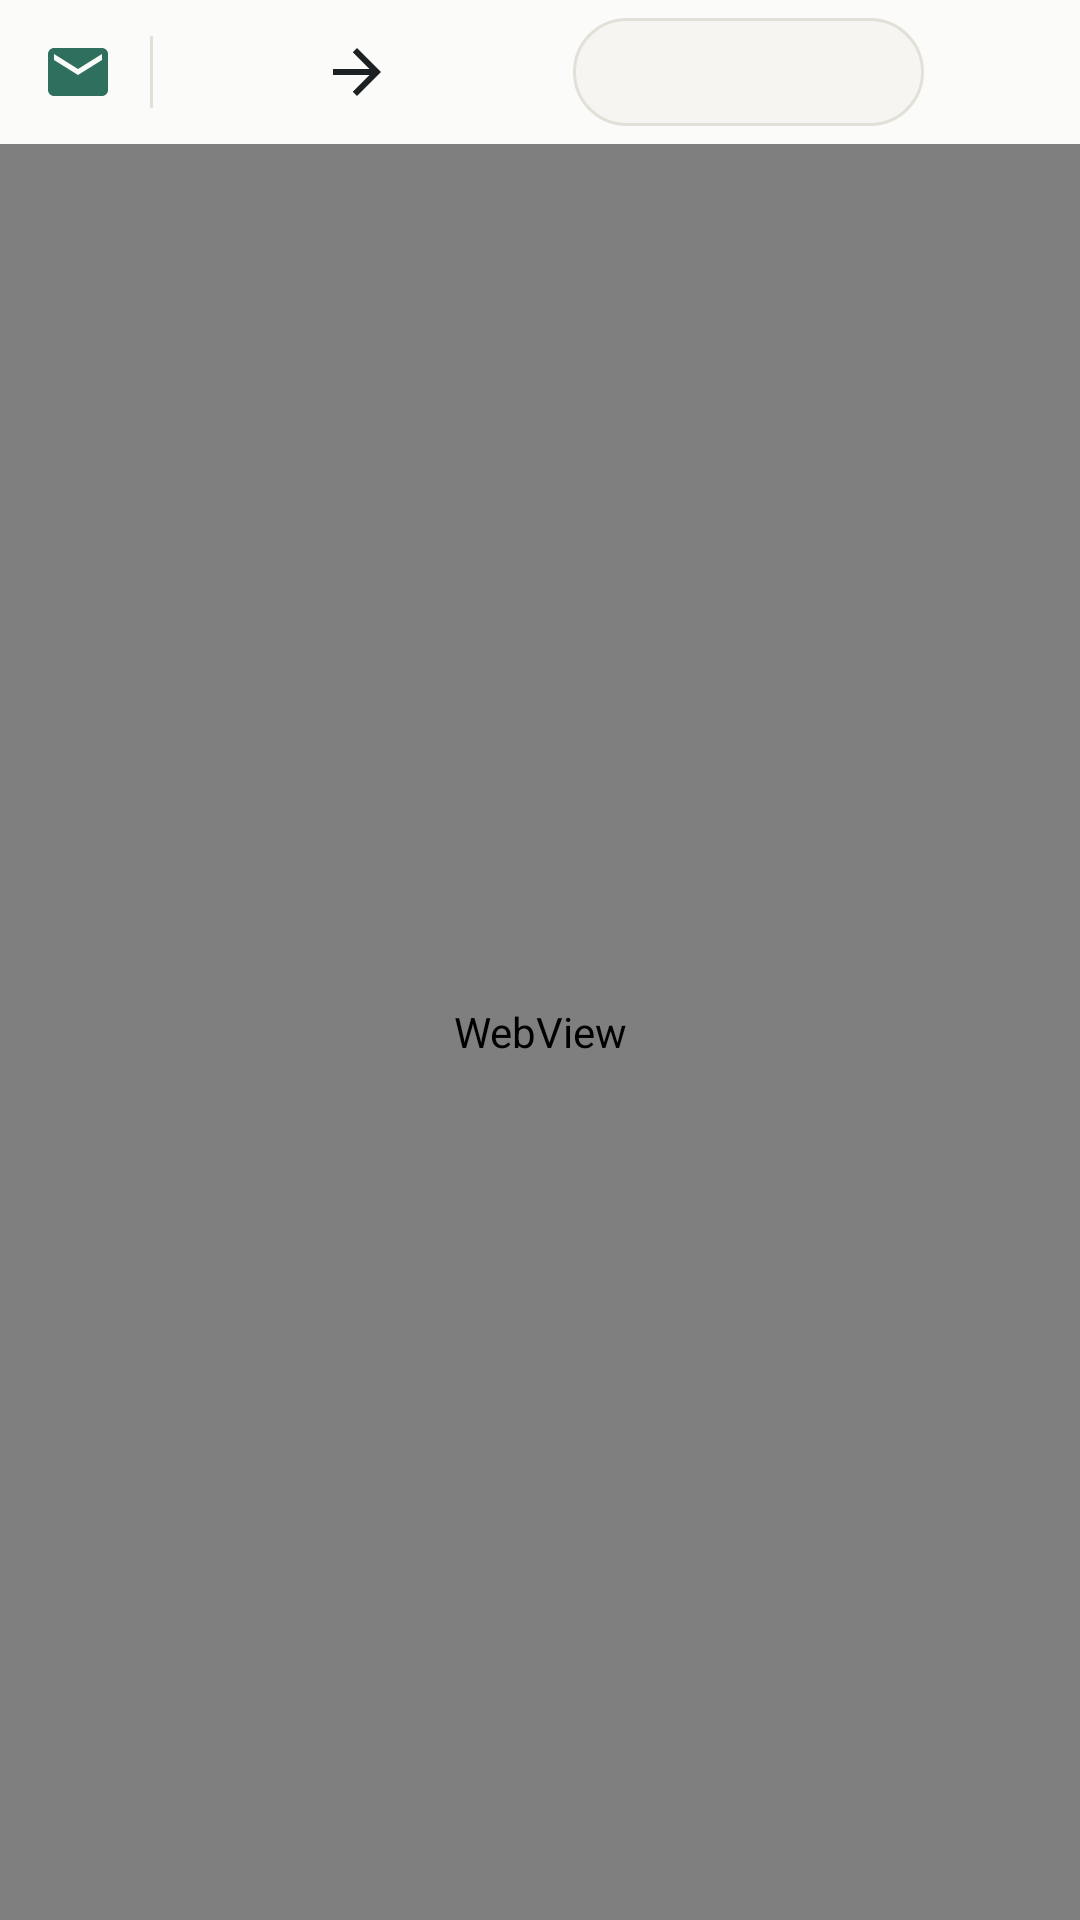

Named icons in this screenshot (1080*1920) and their centers, [x,y]:
Forward: [357,72]
